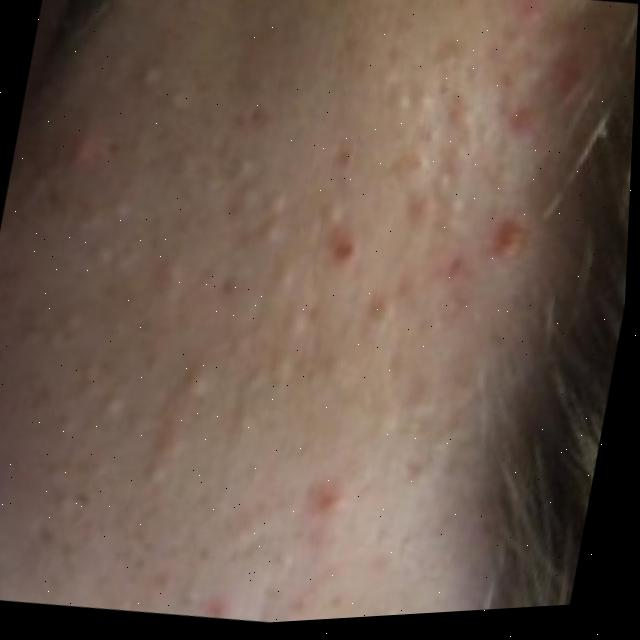Acne: (0, 0, 575, 639)
